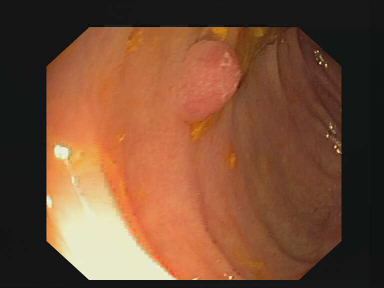polyp: (173, 38, 243, 125)
